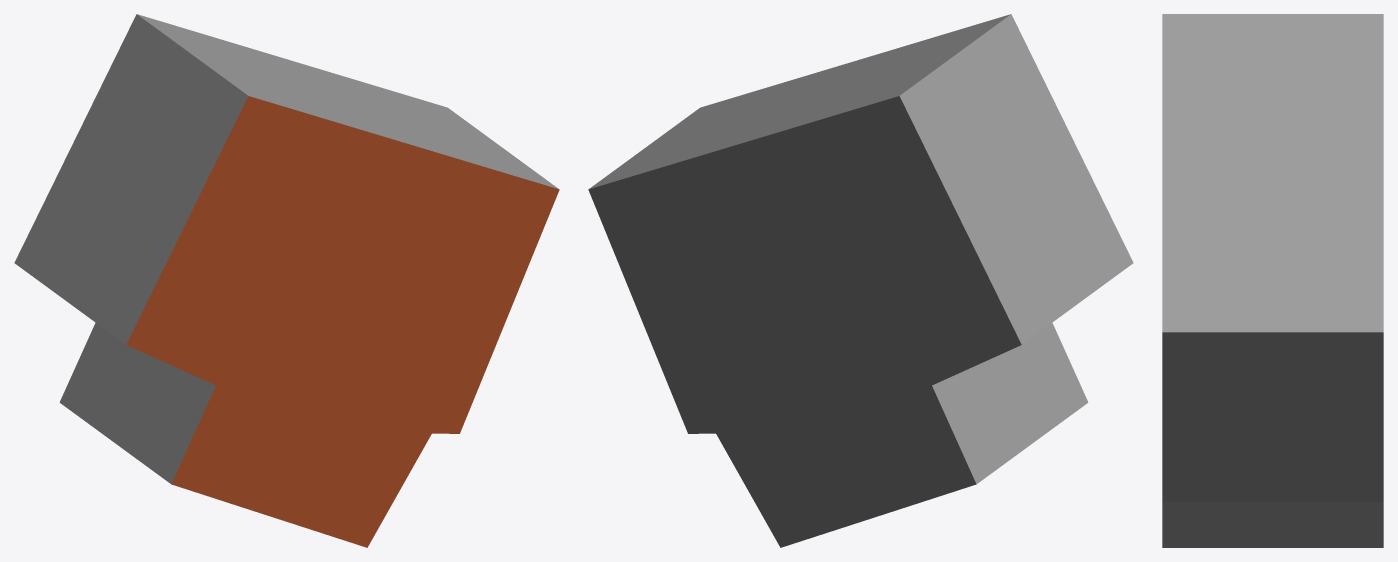
Rendered from construction_0902_assumed_A_Casa_h6m.obj.
3 views of the same model, side by side, from view 1: azimuth 30°, elevation 25°; view 2: azimuth 150°, elevation 25°; view 3: azimuth 270°, elevation 25° (orthographic).
Visible parts, largest first — view 1: construction_0902_assumed_A_Casa; view 2: construction_0902_assumed_A_Casa; view 3: construction_0902_assumed_A_Casa.
Part boxes in pixels (<box>): construction_0902_assumed_A_Casa: <box>14,14,559,547</box>; construction_0902_assumed_A_Casa: <box>588,14,1133,547</box>; construction_0902_assumed_A_Casa: <box>1162,14,1383,547</box>.
Size of the model in its own units: 13.42 by 14.23 by 6.
